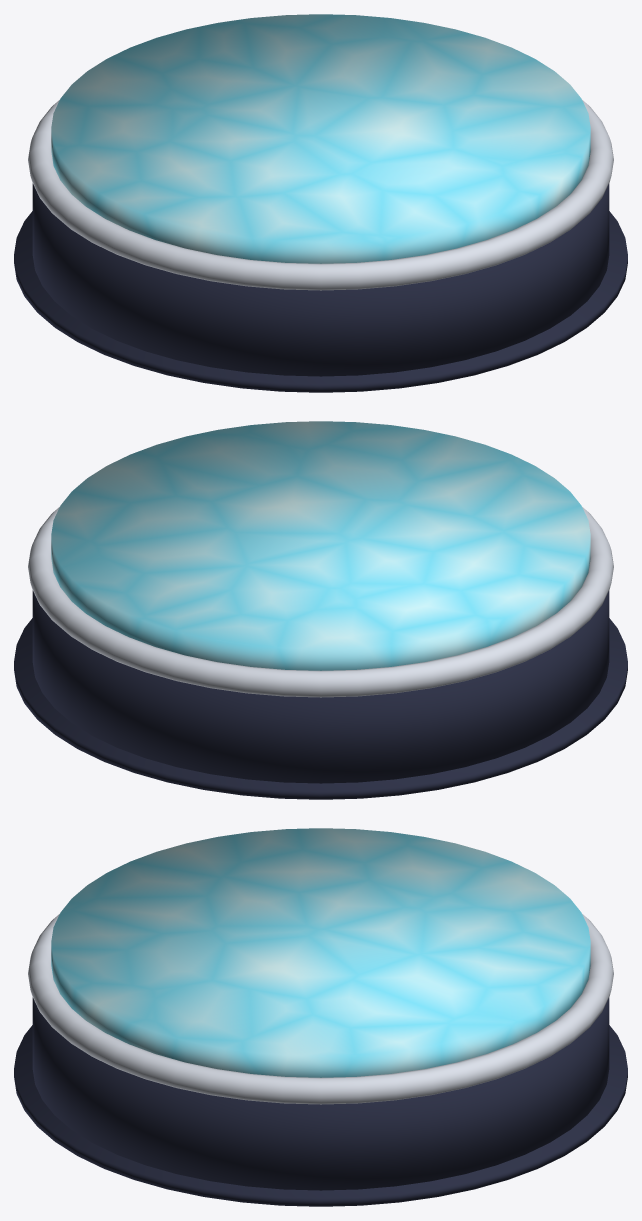
The model's file is SM_Pedestal_Diamond.fbx.
3 renders of one model, top to bottom at view 1: azimuth 30°, elevation 25°; view 2: azimuth 150°, elevation 25°; view 3: azimuth 270°, elevation 25°, orthographic.
Visible parts, largest first — view 1: SM_Pedestal_Diamond; view 2: SM_Pedestal_Diamond; view 3: SM_Pedestal_Diamond.
Part boxes in pixels (x1,y1,x2,y2): SM_Pedestal_Diamond: [14, 14, 627, 392]; SM_Pedestal_Diamond: [14, 421, 627, 799]; SM_Pedestal_Diamond: [14, 828, 627, 1206].
Size of what is drawn, in the model's own units: 1.32 by 0.32 by 1.32.
1 material, 1 textured.
